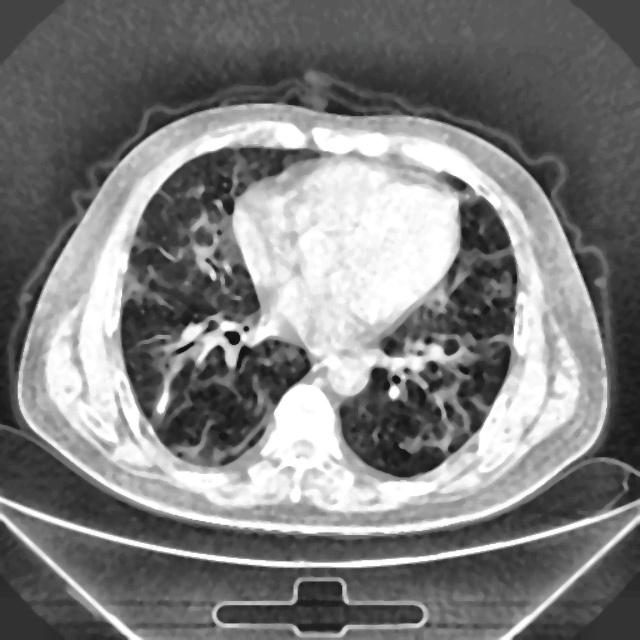covid: (16, 87, 610, 535)
